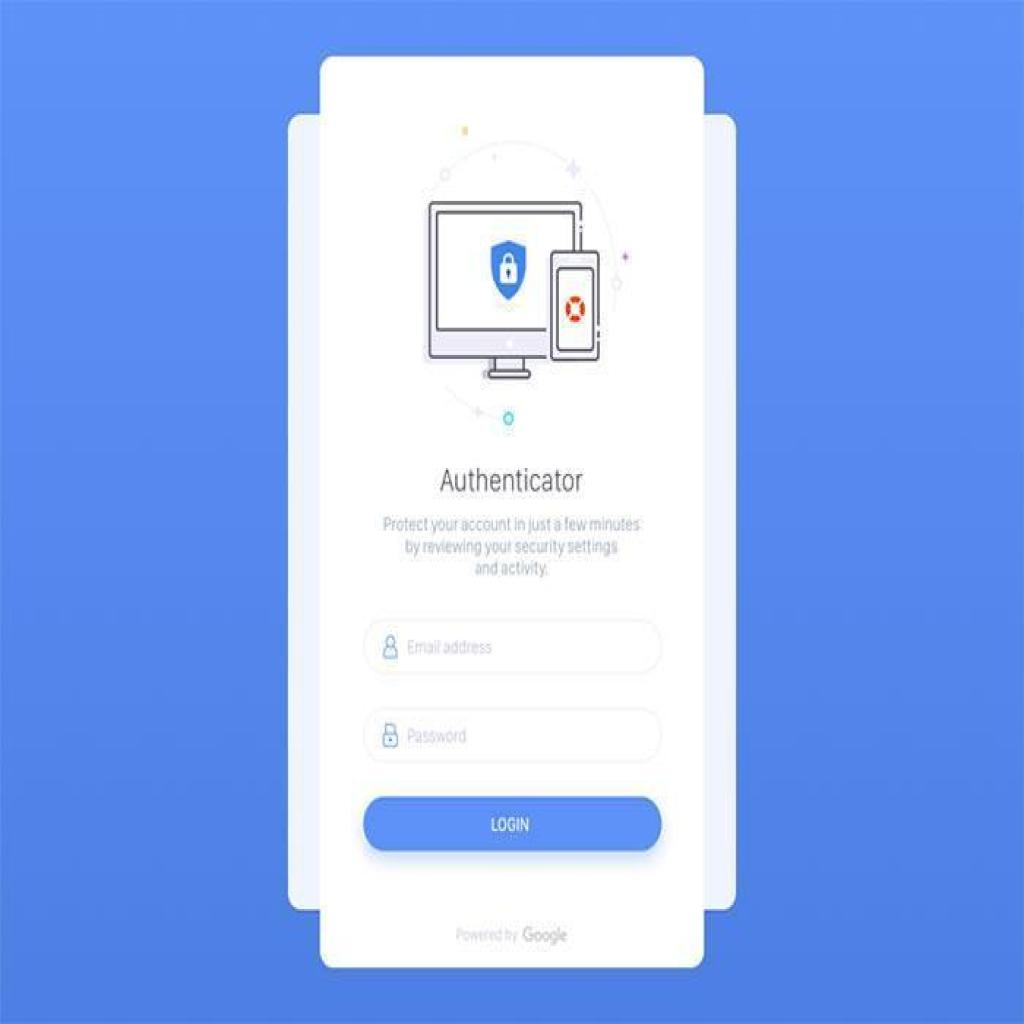button: (366, 792, 661, 852)
input: (363, 614, 661, 679), (363, 706, 661, 769)
